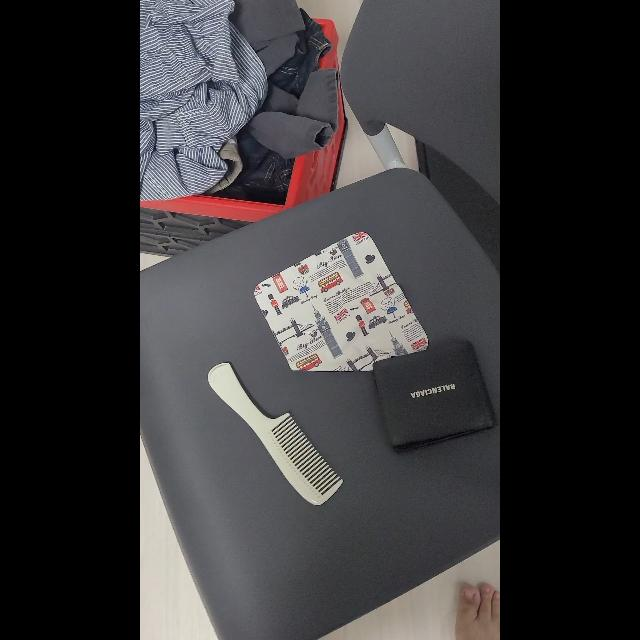COMB: (208, 362, 342, 506)
Glasses cleaning cloth: (252, 232, 428, 372)
WALLET: (372, 341, 496, 454)
